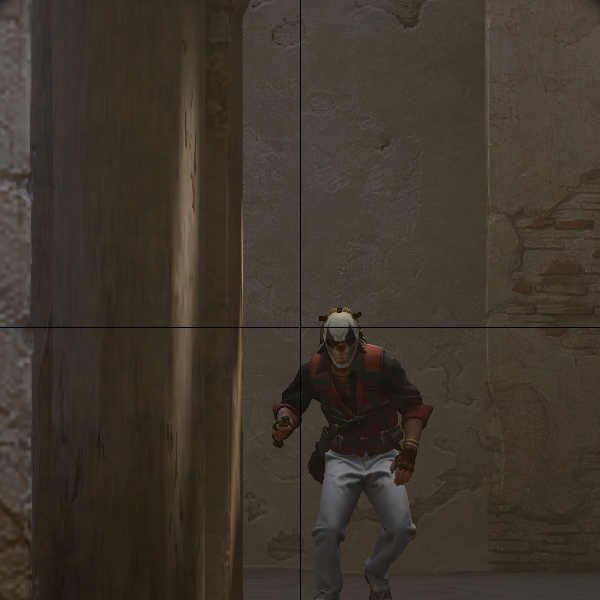t_body: (272, 300, 459, 598)
t_head: (314, 306, 370, 363)
